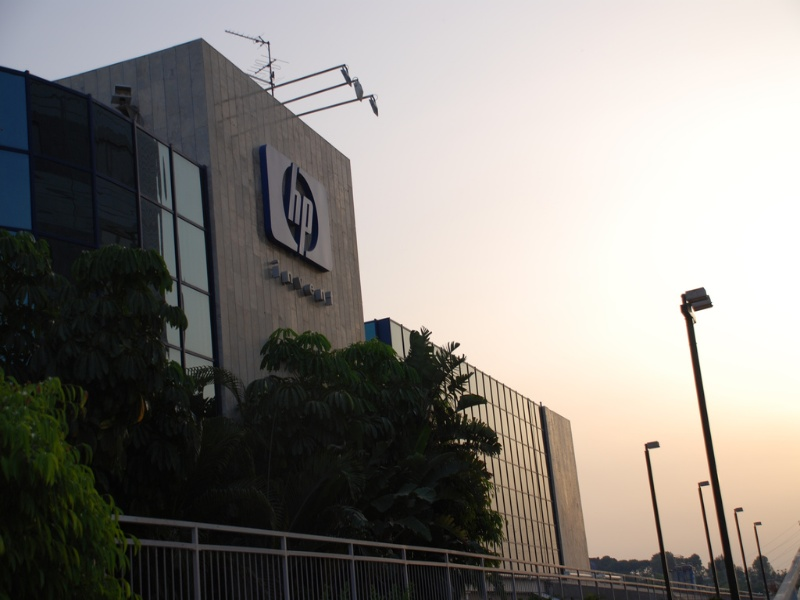hp: (277, 155, 322, 259)
